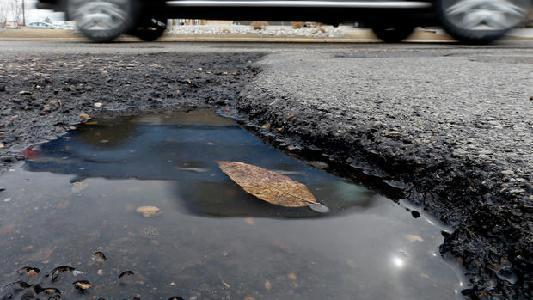Pothole: (0, 90, 518, 216)
